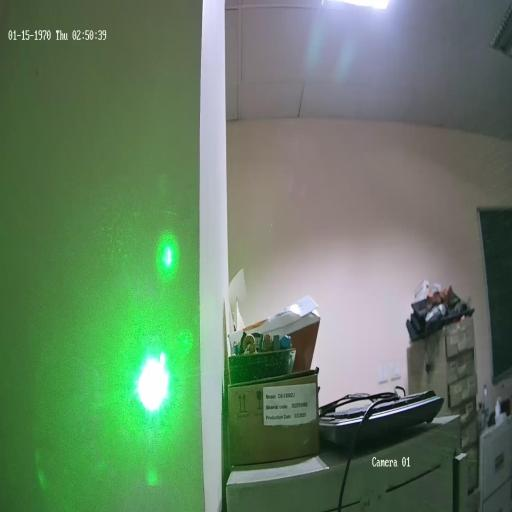laser: (124, 339, 184, 423)
